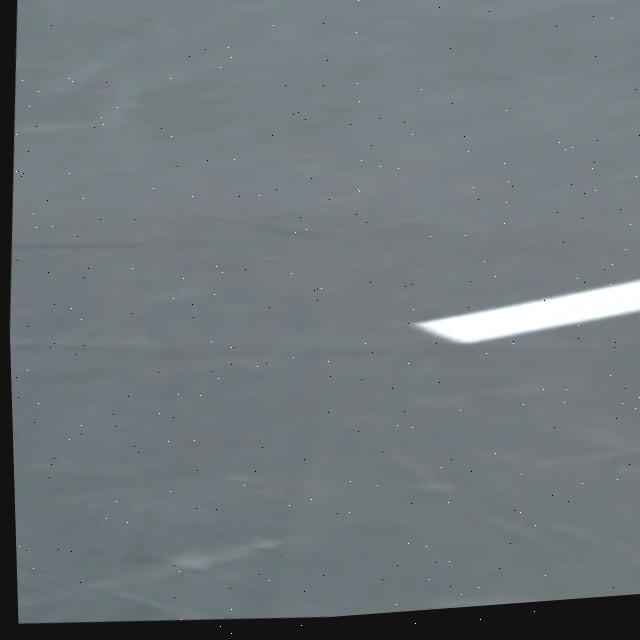center: (413, 279, 640, 343)
